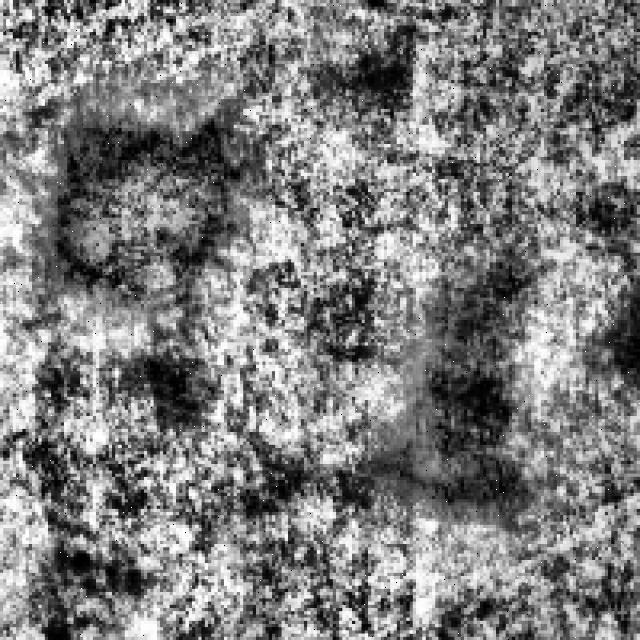Scratches: (28, 73, 276, 304), (384, 253, 544, 522)
